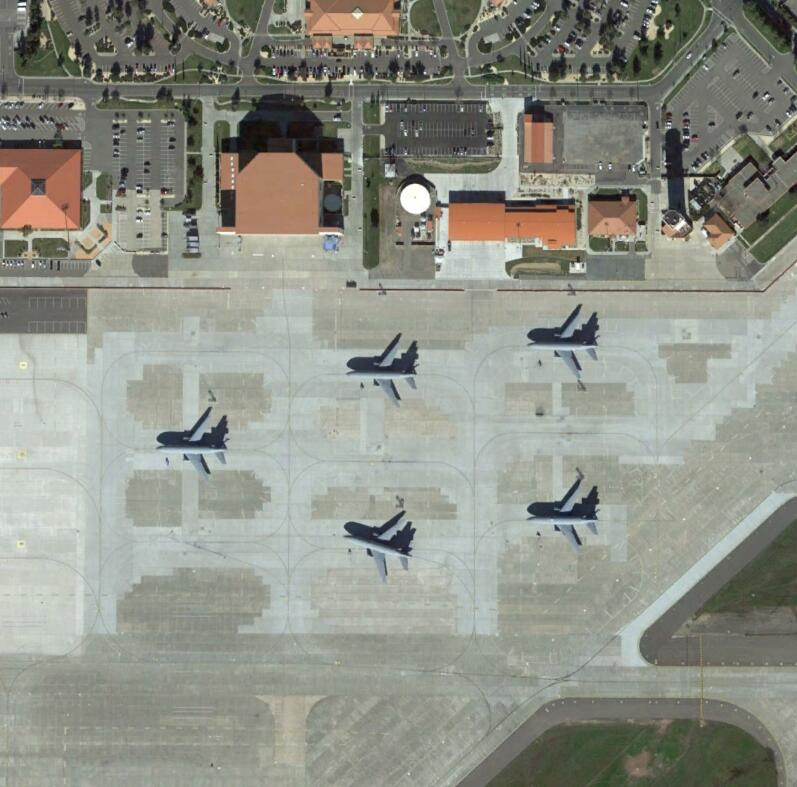A18: (346, 332, 421, 410), (528, 307, 602, 385), (528, 480, 602, 556), (157, 406, 229, 484), (344, 510, 414, 584)
